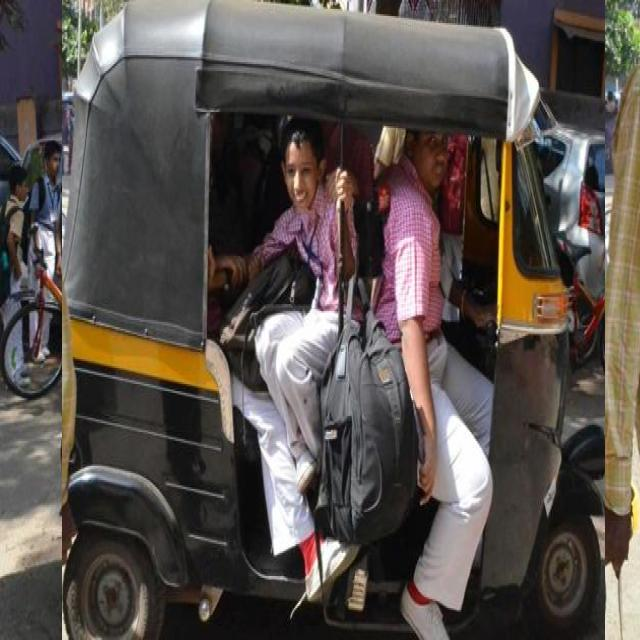autorickshaw: (63, 0, 605, 640)
bicycle: (0, 228, 113, 398)
